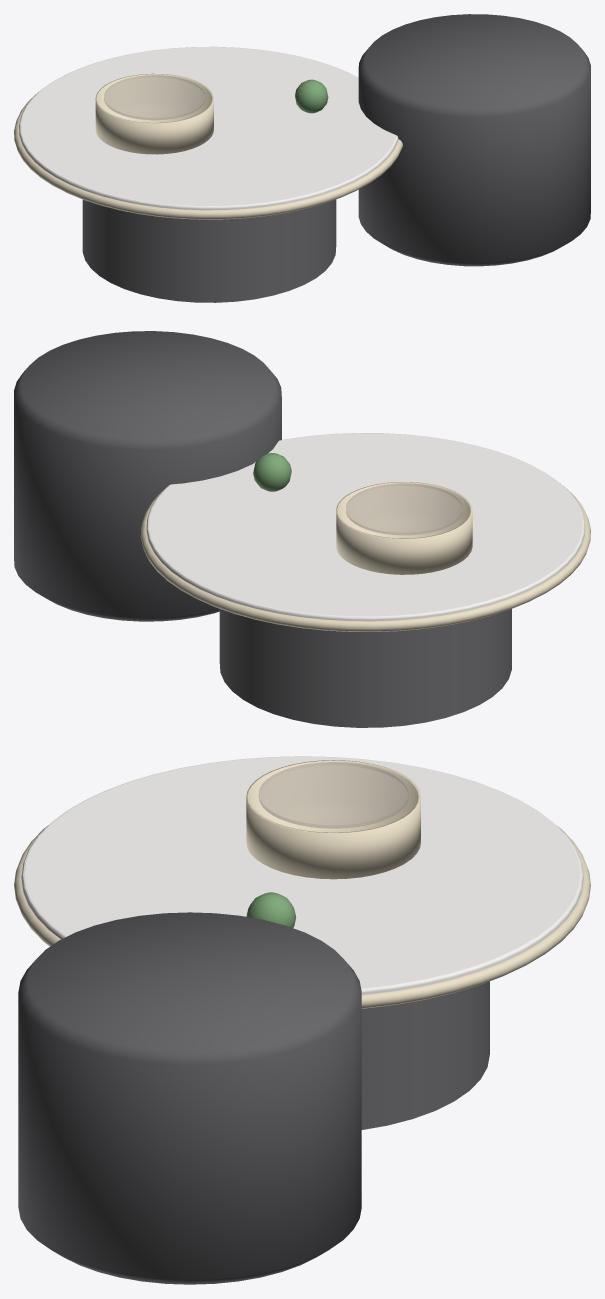
The model's file is it_coffee_table_set.glb.
3 views of the same model, one above another, from view 1: azimuth 30°, elevation 25°; view 2: azimuth 150°, elevation 25°; view 3: azimuth 270°, elevation 25° (orthographic). The views are drawn at different scales.
Parts seen in each view (by area): view 1: drum2, top, base, tray, rim, glass, apple; view 2: drum2, top, base, tray, rim, glass, apple; view 3: drum2, top, tray, base, glass, rim, apple.
Boxes of the visible parts, x1,y1,x2,y2 form: drum2: (358, 14, 590, 266); top: (19, 46, 398, 210); base: (82, 199, 336, 302); tray: (95, 73, 213, 154); rim: (14, 93, 402, 219); glass: (104, 75, 205, 119); apple: (295, 79, 328, 113); drum2: (14, 331, 281, 621); top: (146, 433, 584, 621); base: (219, 609, 511, 727); tray: (336, 482, 472, 574); rim: (140, 485, 590, 631); glass: (346, 483, 462, 534); apple: (253, 453, 291, 491); drum2: (18, 912, 361, 1284); top: (21, 756, 583, 994); tray: (246, 760, 420, 879); base: (361, 981, 489, 1129); glass: (259, 762, 408, 828); rim: (14, 825, 590, 1008); apple: (246, 892, 296, 927).
Bounding box in the file's own units: 1.36 × 0.42 × 0.924.
